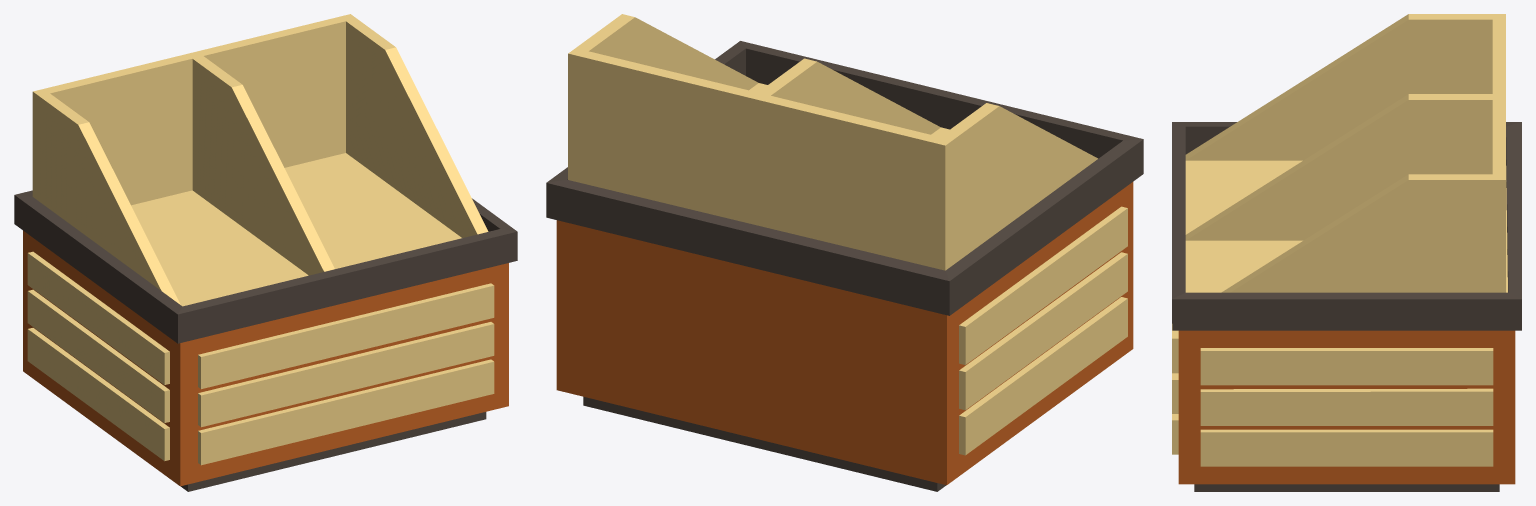
File: SM_ShelfA_2.fbx
The picture shows the model from 3 angles, left to right: view 1: azimuth 30°, elevation 25°; view 2: azimuth 150°, elevation 25°; view 3: azimuth 270°, elevation 25°; orthographic projection. The views are drawn at different scales.
Parts seen in each view (by area): view 1: SM_ShelfA_2; view 2: SM_ShelfA_2; view 3: SM_ShelfA_2.
Boxes of the visible parts, x1=… form: SM_ShelfA_2: x1=14, y1=14, x2=517, y2=491; SM_ShelfA_2: x1=546, y1=14, x2=1143, y2=491; SM_ShelfA_2: x1=1172, y1=14, x2=1521, y2=491.
Bounding box in the file's own units: 120 × 100 × 100.
